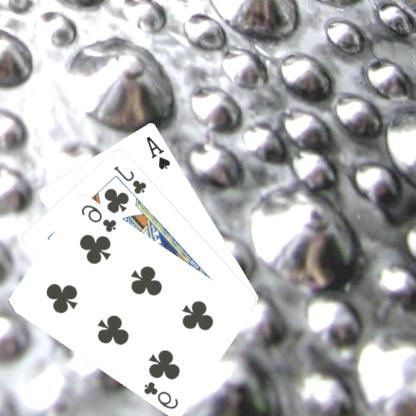6C: (142, 378, 182, 411), (80, 202, 120, 233)
AS: (145, 132, 174, 170)
JC: (113, 163, 150, 195)
